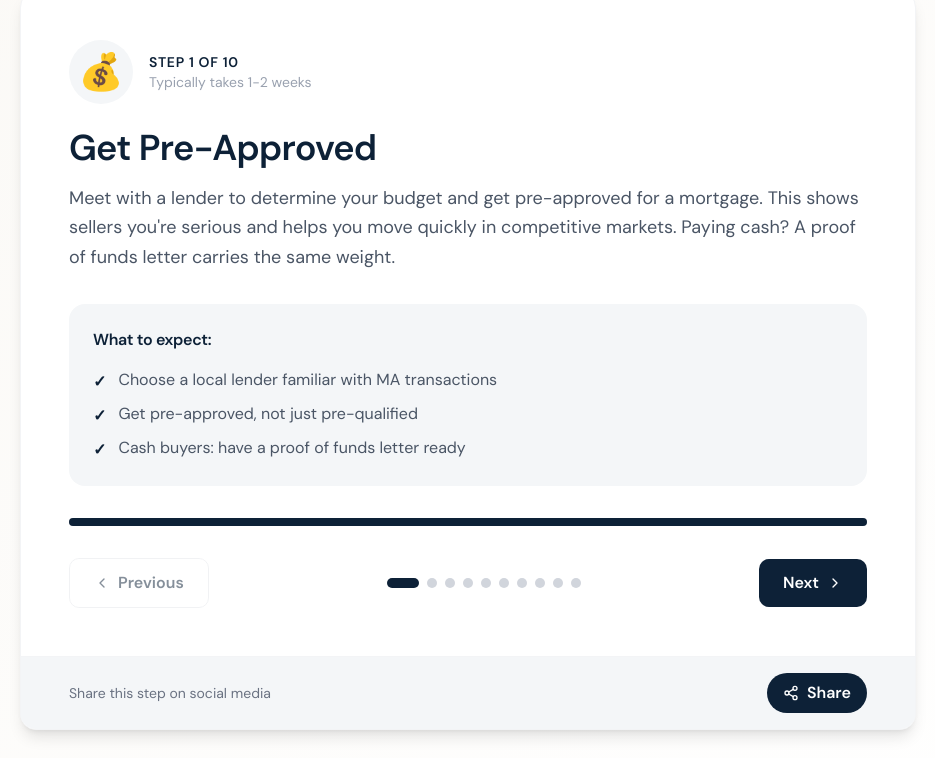
BuyingProcessGuide › navigates to next step when Next button is clicked
(page scrolled)
Click the button "Next" at (813, 583), box top-left (759, 559), bottom-right (867, 607)
(page scrolled)
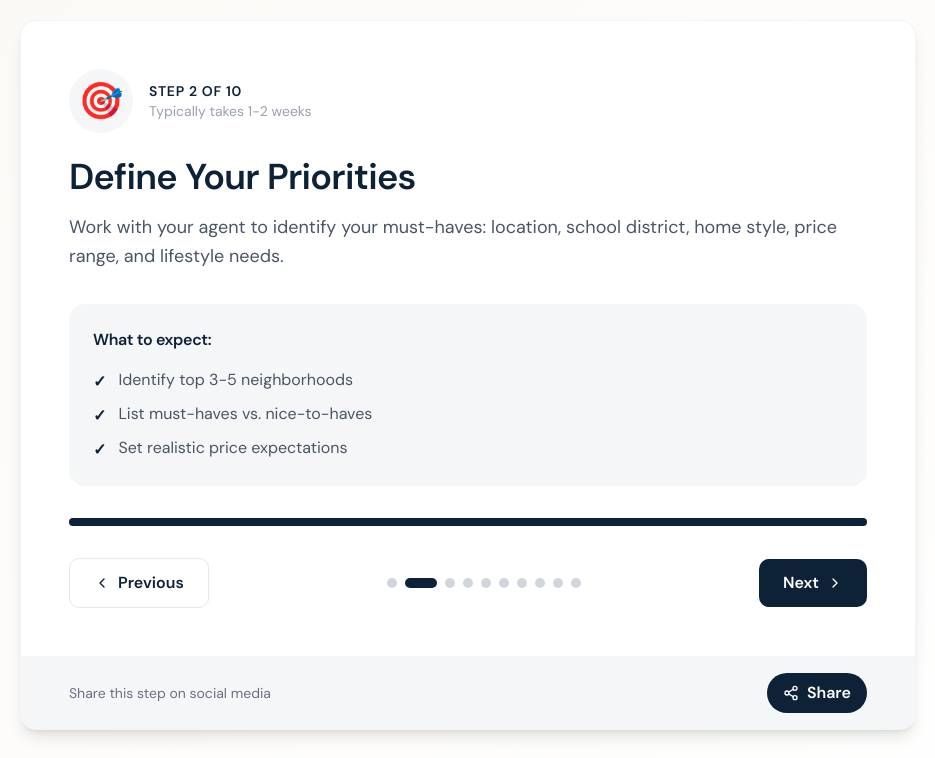
Check: the heading "Define Your Priorities" is shown, box top-left (69, 153), bottom-right (416, 200)
Check: the text "Step 2 of 10" is shown, box top-left (149, 82), bottom-right (242, 100)
